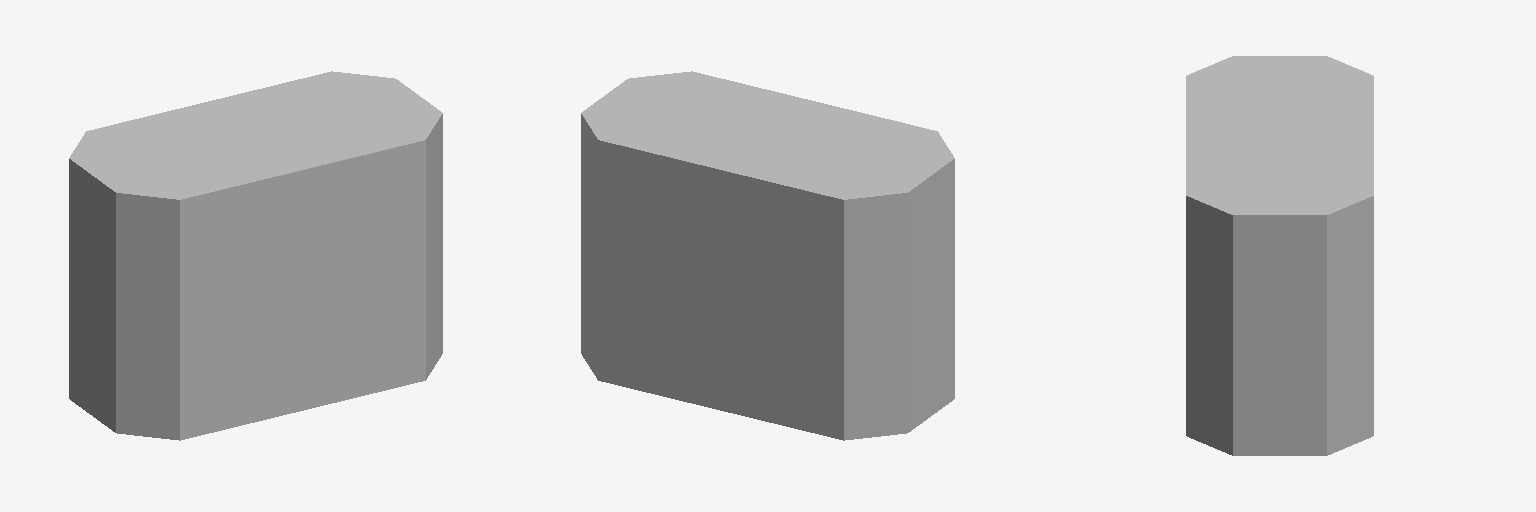
Rendered from sardines.obj.
The picture shows the model from 3 angles: view 1: azimuth 30°, elevation 25°; view 2: azimuth 150°, elevation 25°; view 3: azimuth 270°, elevation 25°; orthographic projection.
Parts seen in each view (by area): view 1: pCube1; view 2: pCube1; view 3: pCube1.
Boxes of the visible parts, <box> form: pCube1: <box>69,71,442,440</box>; pCube1: <box>581,71,954,440</box>; pCube1: <box>1186,56,1373,455</box>.
Size of the model in its own units: 0.9334 by 0.6565 by 0.4642.